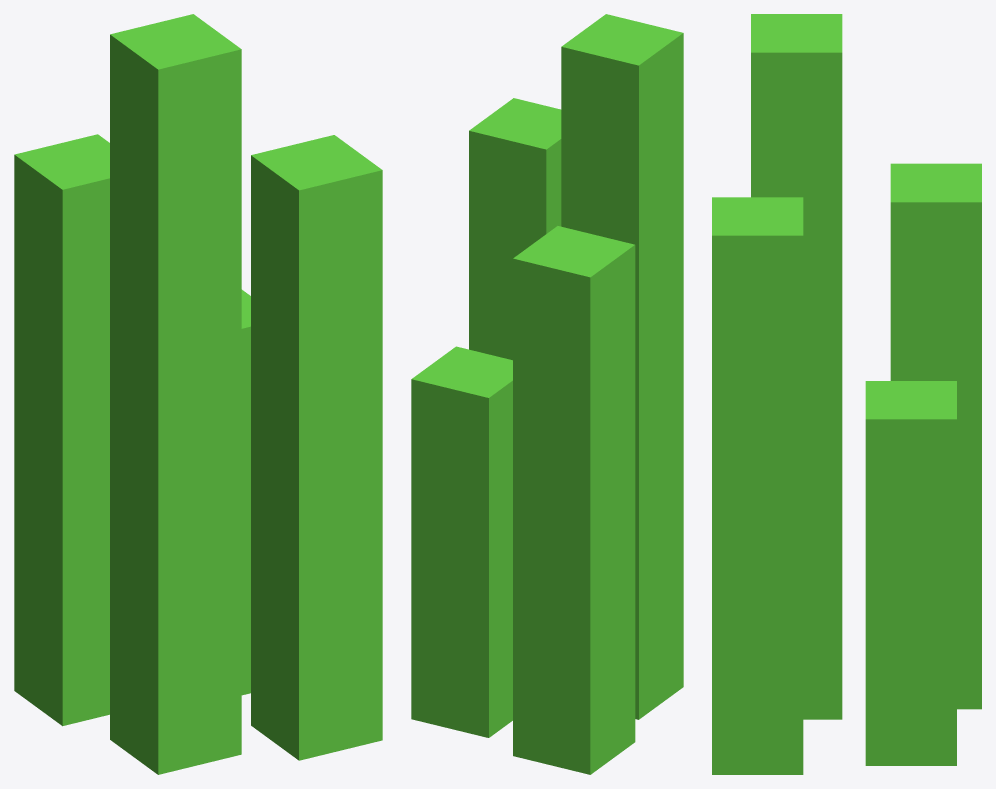
The model's file is Grass_07.fbx.
3 renders of one model, left to right at view 1: azimuth 30°, elevation 25°; view 2: azimuth 150°, elevation 25°; view 3: azimuth 270°, elevation 25°, orthographic. The views are drawn at different scales.
Parts seen in each view (by area): view 1: Grass_07; view 2: Grass_07; view 3: Grass_07.
Part boxes in pixels (left/top/right/bottom): Grass_07: left=14, top=14, right=382, bottom=774; Grass_07: left=411, top=14, right=683, bottom=774; Grass_07: left=712, top=14, right=981, bottom=774.
Size of the model in its own units: 26.83 by 80.18 by 29.42.
